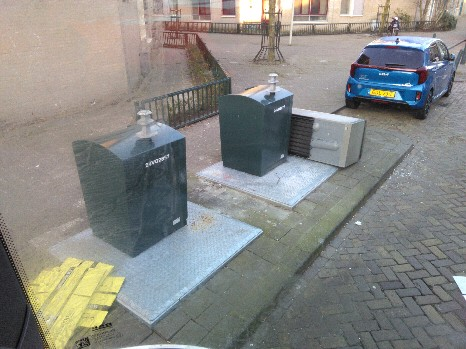Container: (85, 133, 202, 239), (226, 99, 283, 183)
Rest: (303, 103, 361, 165)
